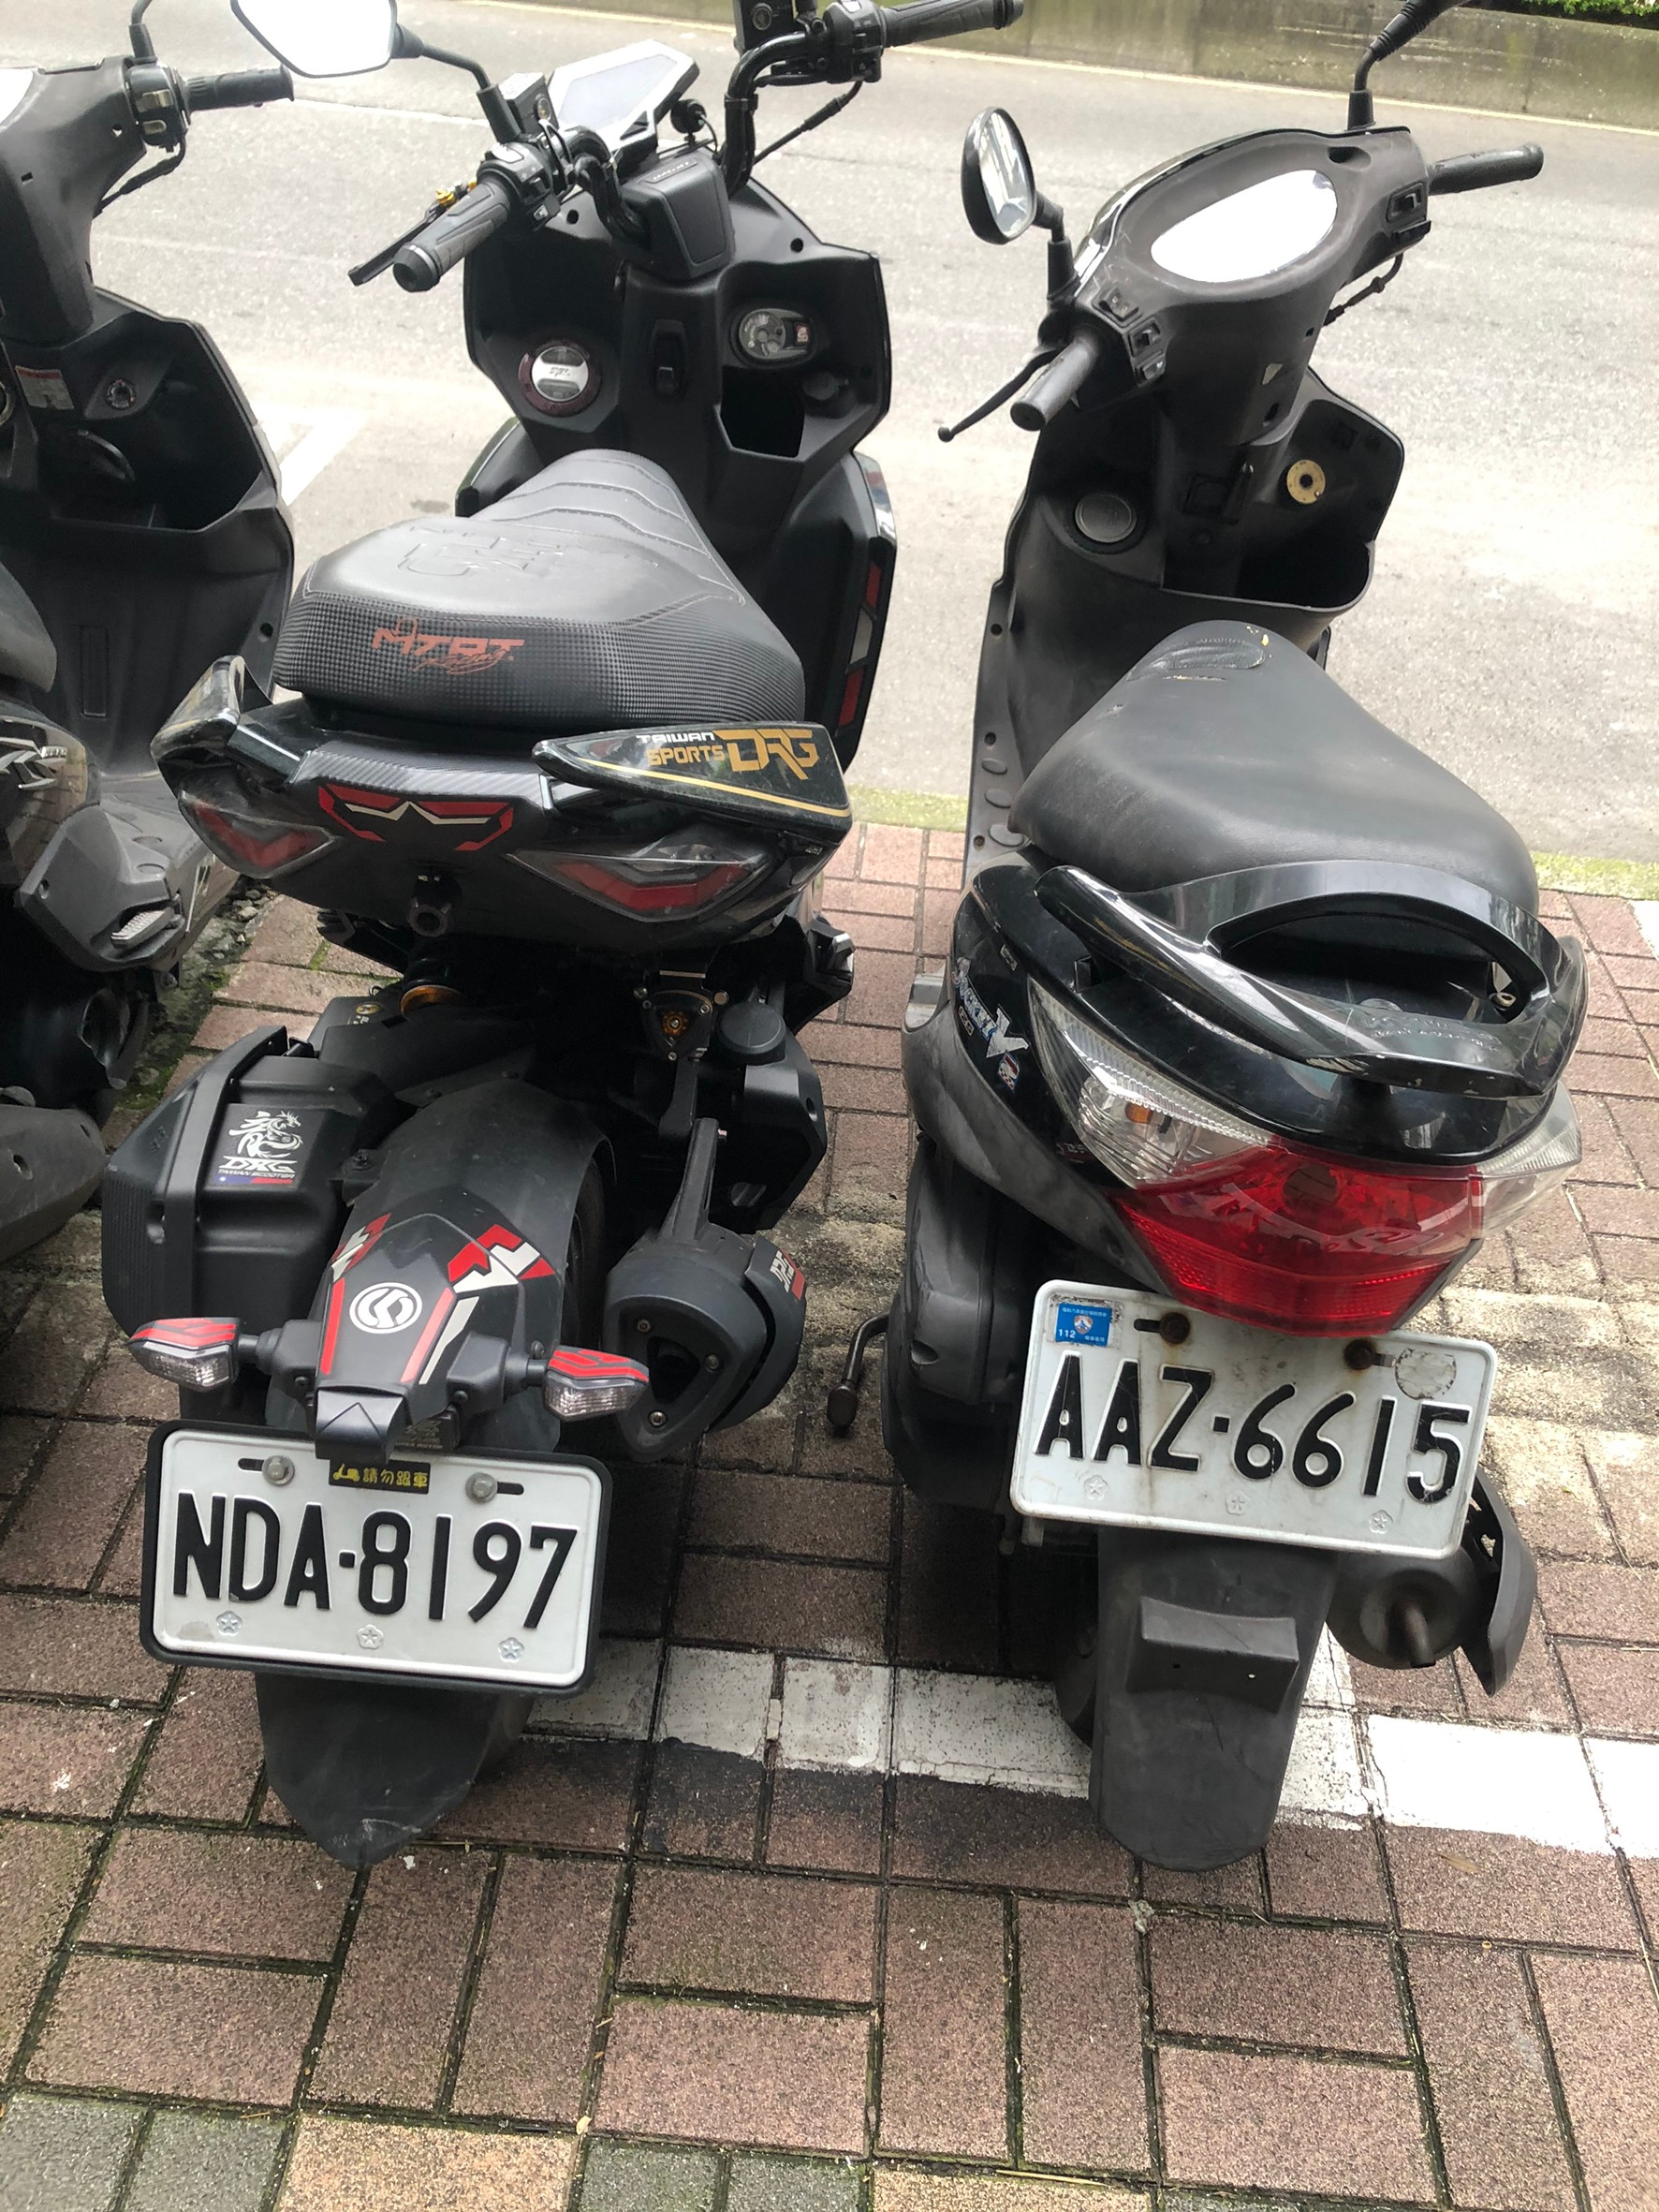LP: (146, 1420, 587, 1691), (1031, 1312, 1475, 1541)
